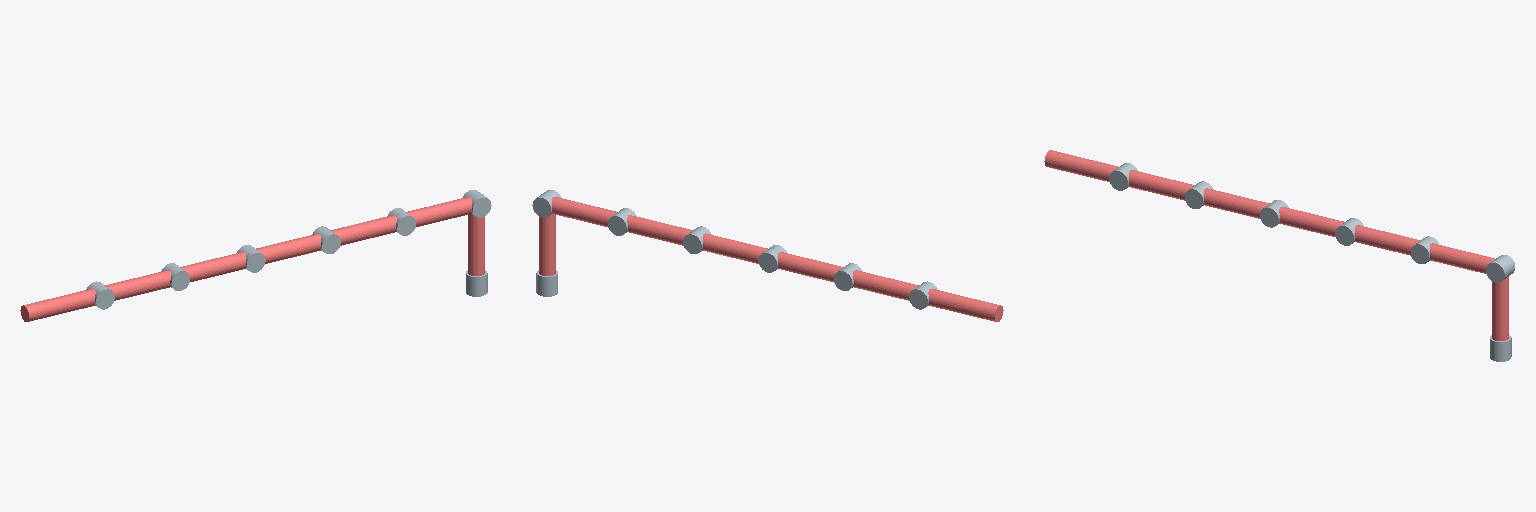
The robot description file, URDF, robot "robot":
<robot name='robot'>
	<material name='blue'>
		<color rgba='0 0 0.8 1'/>
	</material>
	<material name='red'>
		<color rgba='0.8 0 0 1'/>
	</material>
	<link name='a0'>
		<visual>
			<origin rpy='-0.0 0.0 0.0' xyz='0.0 0.0 0.0'/>
			<geometry>
				<cylinder length='0.1' radius='0.05'/>
			</geometry>
			<material name='blue'><color rgba='0.73 0.79 0.82 1'/></material>
		</visual>
	</link>
	<link name='l0'>
		<visual>
			<origin rpy='-0.0 0.0 0.0' xyz='0.0 0.0 0.2'/>
			<geometry>
				<cylinder length='0.4' radius='0.04'/>
			</geometry>
			<material name='grey'><color rgba='0.99 0.54 0.54 1'/></material>
		</visual>
	</link>
	<joint name='move_l0_from_a0' type='continuous'>
		<parent link='a0'/>
		<child link='l0'/>
		<axis xyz='0.0 0.0 1.0'/>
		<origin rpy='0 0 0' xyz='0.0 0.0 0.0'/>
	</joint>
	<link name='a1'>
		<visual>
			<origin rpy='1.5707963267948966 0.0 0.0' xyz='0.0 0.0 0.4'/>
			<geometry>
				<cylinder length='0.1' radius='0.05'/>
			</geometry>
			<material name='blue'><color rgba='0.73 0.79 0.82 1'/></material>
		</visual>
	</link>
	<joint name='fix_a1_to_l0' type='fixed'>
		<parent link='l0'/>
		<child link='a1'/>
		<origin rpy='0 0 0' xyz='0 0 0'/>
	</joint>
	<link name='l1'>
		<visual>
			<origin rpy='-0.0 -1.5707963267948963 0.0' xyz='-0.2 -0.0 0.0'/>
			<geometry>
				<cylinder length='0.4' radius='0.04'/>
			</geometry>
			<material name='grey'><color rgba='0.99 0.54 0.54 1'/></material>
		</visual>
	</link>
	<joint name='move_l1_from_a1' type='continuous'>
		<parent link='a1'/>
		<child link='l1'/>
		<axis xyz='0.0 -1.0 0.0'/>
		<origin rpy='0 0 0' xyz='0.0 0.0 0.4'/>
	</joint>
	<link name='a2'>
		<visual>
			<origin rpy='1.5707963267948966 0.0 0.0' xyz='-0.4 -0.0 0.0'/>
			<geometry>
				<cylinder length='0.1' radius='0.05'/>
			</geometry>
			<material name='blue'><color rgba='0.73 0.79 0.82 1'/></material>
		</visual>
	</link>
	<joint name='fix_a2_to_l1' type='fixed'>
		<parent link='l1'/>
		<child link='a2'/>
		<origin rpy='0 0 0' xyz='0 0 0'/>
	</joint>
	<link name='l2'>
		<visual>
			<origin rpy='-0.0 -1.5707963267948963 0.0' xyz='-0.2 -0.0 0.0'/>
			<geometry>
				<cylinder length='0.4' radius='0.04'/>
			</geometry>
			<material name='grey'><color rgba='0.99 0.54 0.54 1'/></material>
		</visual>
	</link>
	<joint name='move_l2_from_a2' type='continuous'>
		<parent link='a2'/>
		<child link='l2'/>
		<axis xyz='0.0 -1.0 0.0'/>
		<origin rpy='0 0 0' xyz='-0.4 -0.0 0.0'/>
	</joint>
	<link name='a3'>
		<visual>
			<origin rpy='1.5707963267948966 0.0 0.0' xyz='-0.4 -0.0 0.0'/>
			<geometry>
				<cylinder length='0.1' radius='0.05'/>
			</geometry>
			<material name='blue'><color rgba='0.73 0.79 0.82 1'/></material>
		</visual>
	</link>
	<joint name='fix_a3_to_l2' type='fixed'>
		<parent link='l2'/>
		<child link='a3'/>
		<origin rpy='0 0 0' xyz='0 0 0'/>
	</joint>
	<link name='l3'>
		<visual>
			<origin rpy='-0.0 -1.5707963267948963 0.0' xyz='-0.2 -0.0 0.0'/>
			<geometry>
				<cylinder length='0.4' radius='0.04'/>
			</geometry>
			<material name='grey'><color rgba='0.99 0.54 0.54 1'/></material>
		</visual>
	</link>
	<joint name='move_l3_from_a3' type='continuous'>
		<parent link='a3'/>
		<child link='l3'/>
		<axis xyz='0.0 -1.0 0.0'/>
		<origin rpy='0 0 0' xyz='-0.4 -0.0 0.0'/>
	</joint>
	<link name='a4'>
		<visual>
			<origin rpy='1.5707963267948966 0.0 0.0' xyz='-0.4 -0.0 0.0'/>
			<geometry>
				<cylinder length='0.1' radius='0.05'/>
			</geometry>
			<material name='blue'><color rgba='0.73 0.79 0.82 1'/></material>
		</visual>
	</link>
	<joint name='fix_a4_to_l3' type='fixed'>
		<parent link='l3'/>
		<child link='a4'/>
		<origin rpy='0 0 0' xyz='0 0 0'/>
	</joint>
	<link name='l4'>
		<visual>
			<origin rpy='-0.0 -1.5707963267948963 0.0' xyz='-0.2 -0.0 0.0'/>
			<geometry>
				<cylinder length='0.4' radius='0.04'/>
			</geometry>
			<material name='grey'><color rgba='0.99 0.54 0.54 1'/></material>
		</visual>
	</link>
	<joint name='move_l4_from_a4' type='continuous'>
		<parent link='a4'/>
		<child link='l4'/>
		<axis xyz='0.0 -1.0 0.0'/>
		<origin rpy='0 0 0' xyz='-0.4 -0.0 0.0'/>
	</joint>
	<link name='a5'>
		<visual>
			<origin rpy='1.5707963267948966 0.0 0.0' xyz='-0.4 -0.0 0.0'/>
			<geometry>
				<cylinder length='0.1' radius='0.05'/>
			</geometry>
			<material name='blue'><color rgba='0.73 0.79 0.82 1'/></material>
		</visual>
	</link>
	<joint name='fix_a5_to_l4' type='fixed'>
		<parent link='l4'/>
		<child link='a5'/>
		<origin rpy='0 0 0' xyz='0 0 0'/>
	</joint>
	<link name='l5'>
		<visual>
			<origin rpy='-0.0 -1.5707963267948963 0.0' xyz='-0.2 -0.0 0.0'/>
			<geometry>
				<cylinder length='0.4' radius='0.04'/>
			</geometry>
			<material name='grey'><color rgba='0.99 0.54 0.54 1'/></material>
		</visual>
	</link>
	<joint name='move_l5_from_a5' type='continuous'>
		<parent link='a5'/>
		<child link='l5'/>
		<axis xyz='0.0 -1.0 0.0'/>
		<origin rpy='0 0 0' xyz='-0.4 -0.0 0.0'/>
	</joint>
	<link name='a6'>
		<visual>
			<origin rpy='1.5707963267948966 0.0 0.0' xyz='-0.4 -0.0 0.0'/>
			<geometry>
				<cylinder length='0.1' radius='0.05'/>
			</geometry>
			<material name='blue'><color rgba='0.73 0.79 0.82 1'/></material>
		</visual>
	</link>
	<joint name='fix_a6_to_l5' type='fixed'>
		<parent link='l5'/>
		<child link='a6'/>
		<origin rpy='0 0 0' xyz='0 0 0'/>
	</joint>
	<link name='l6'>
		<visual>
			<origin rpy='-0.0 -1.5707963267948963 0.0' xyz='-0.2 -0.0 0.0'/>
			<geometry>
				<cylinder length='0.4' radius='0.04'/>
			</geometry>
			<material name='grey'><color rgba='0.99 0.54 0.54 1'/></material>
		</visual>
	</link>
	<joint name='move_l6_from_a6' type='continuous'>
		<parent link='a6'/>
		<child link='l6'/>
		<axis xyz='0.0 -1.0 0.0'/>
		<origin rpy='0 0 0' xyz='-0.4 -0.0 0.0'/>
	</joint>
</robot>

--- Render facts (derived) ---
3 views of the same robot in one strip: view 1: azimuth 30°, elevation 25°; view 2: azimuth 150°, elevation 25°; view 3: azimuth 330°, elevation 25° (orthographic).
Robot: robot — 14 links, 13 joints (7 continuous, 6 fixed); root link a0; default pose: all joints at 0.
Visible links, largest first — view 1: l6, l1, l5, l4, l2, l3, l0; view 2: l6, l1, l5, l4, l2, l3, l0; view 3: l6, l5, l4, l1, l2, l3, l0, a1.
Boxes of the visible links, <box> form: l6: <box>20,289,95,321</box>; l1: <box>407,197,471,226</box>; l5: <box>105,270,170,300</box>; l4: <box>180,252,245,281</box>; l2: <box>331,215,396,245</box>; l3: <box>256,233,320,263</box>; l0: <box>468,214,484,275</box>; l6: <box>928,289,1003,321</box>; l1: <box>552,197,616,226</box>; l5: <box>853,270,918,300</box>; l4: <box>778,252,843,281</box>; l2: <box>627,215,692,245</box>; l3: <box>703,233,767,263</box>; l0: <box>539,214,555,275</box>; l6: <box>1044,150,1118,181</box>; l5: <box>1129,170,1194,200</box>; l4: <box>1204,188,1269,218</box>; l1: <box>1430,243,1494,273</box>; l2: <box>1355,225,1420,255</box>; l3: <box>1279,207,1344,236</box>; l0: <box>1492,276,1508,340</box>; a1: <box>1486,255,1514,282</box>.
Size in the robot's own frame: 2.45 by 0.1 by 0.5 metres.
Geometry: primitives only (box / cylinder / sphere), no mesh files.